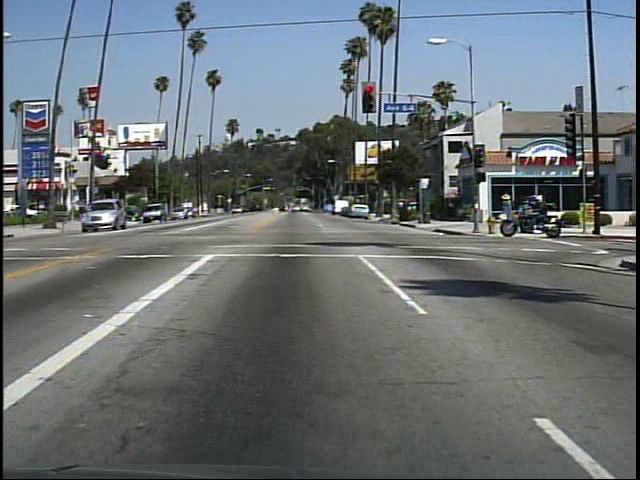person: (525, 193, 552, 235), (495, 188, 519, 231)
